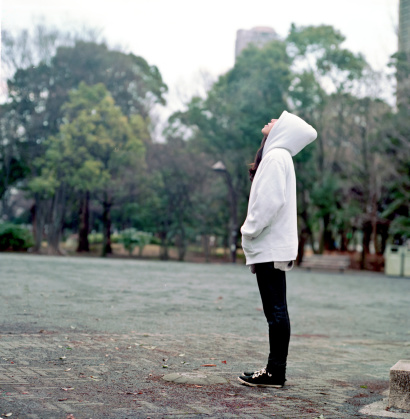em pe: (232, 106, 310, 390)
